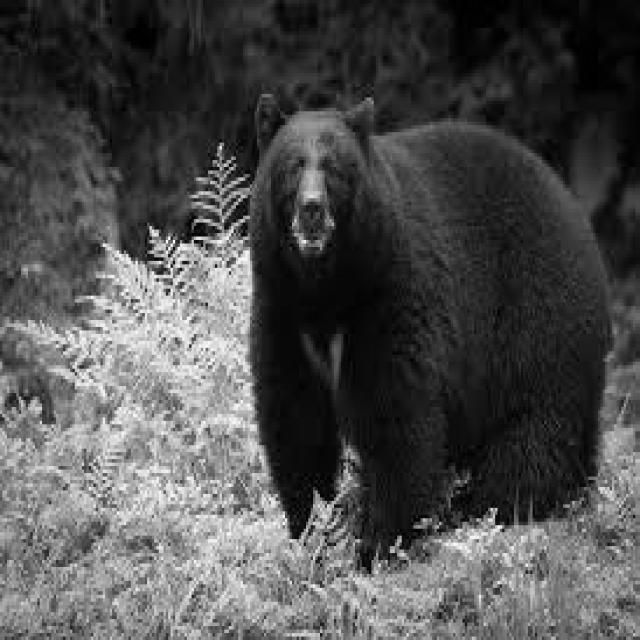Bear: (252, 99, 610, 543)
